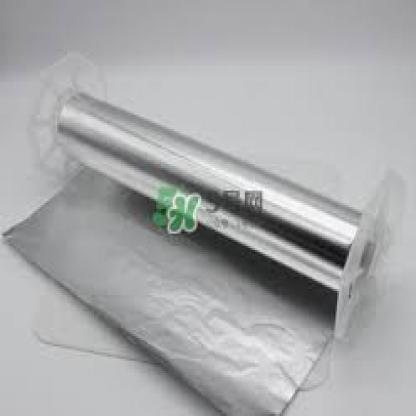METAL: (2, 90, 364, 414)
